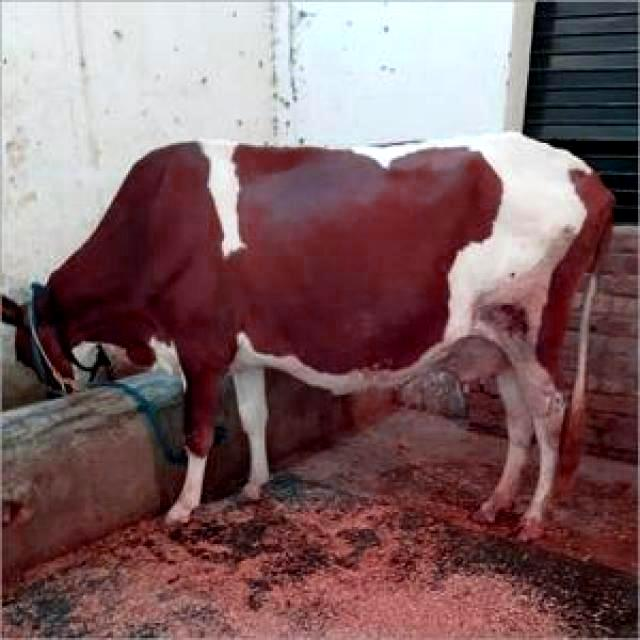COW: (2, 132, 612, 538)
